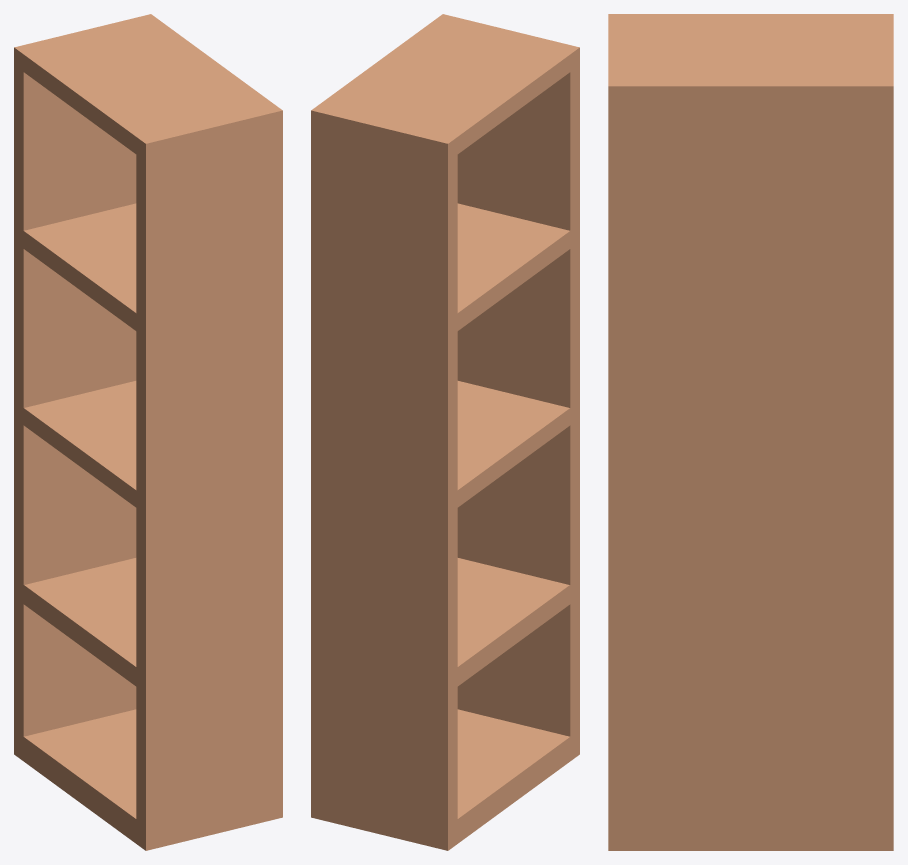
The model's file is bookshelf2.fbx.
3 renders of one model, left to right at view 1: azimuth 30°, elevation 25°; view 2: azimuth 150°, elevation 25°; view 3: azimuth 270°, elevation 25°, orthographic. The views are drawn at different scales.
Visible parts, largest first — view 1: Cube; view 2: Cube; view 3: Cube.
Part boxes in pixels (x1,y1,x2,y2): Cube: [14, 14, 282, 850]; Cube: [311, 14, 579, 850]; Cube: [608, 14, 893, 850].
Bounding box in the file's own units: 30 × 148 × 50.
